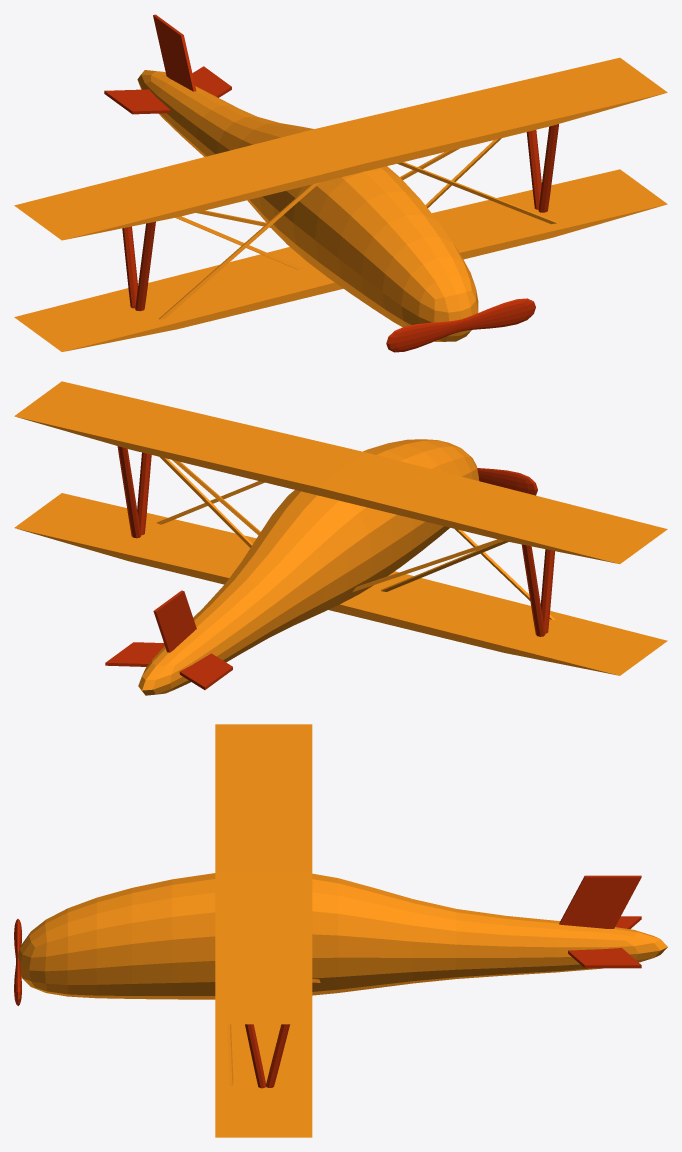
File: biplan.glb
3 renders of one model, top to bottom at view 1: azimuth 30°, elevation 25°; view 2: azimuth 150°, elevation 25°; view 3: azimuth 270°, elevation 25°, orthographic.
Parts seen in each view (by area): view 1: Cylinder.002, Cube.022, Cube.014, Cube.005, vint; view 2: Cylinder.002, Cube.022, Cube.014, Cube.005, vint; view 3: Cube.022, Cylinder.002, Cube.014, Cube.005.
Part boxes in pixels (left/top/right/bottom): Cylinder.002: left=14, top=57, right=667, bottom=351; Cube.022: left=137, top=70, right=478, bottom=341; Cube.014: left=104, top=14, right=231, bottom=114; Cube.005: left=122, top=124, right=558, bottom=311; vint: left=386, top=298, right=535, bottom=352; Cylinder.002: left=14, top=381, right=667, bottom=675; Cube.022: left=138, top=439, right=479, bottom=695; Cube.014: left=105, top=590, right=232, bottom=689; Cube.005: left=117, top=446, right=554, bottom=636; vint: left=477, top=468, right=537, bottom=495; Cube.022: left=17, top=873, right=667, bottom=999; Cylinder.002: left=215, top=724, right=320, bottom=1137; Cube.014: left=559, top=875, right=641, bottom=968; Cube.005: left=245, top=1024, right=289, bottom=1088.
Size of the model in its own units: 14.62 by 2.79 by 13.47.
